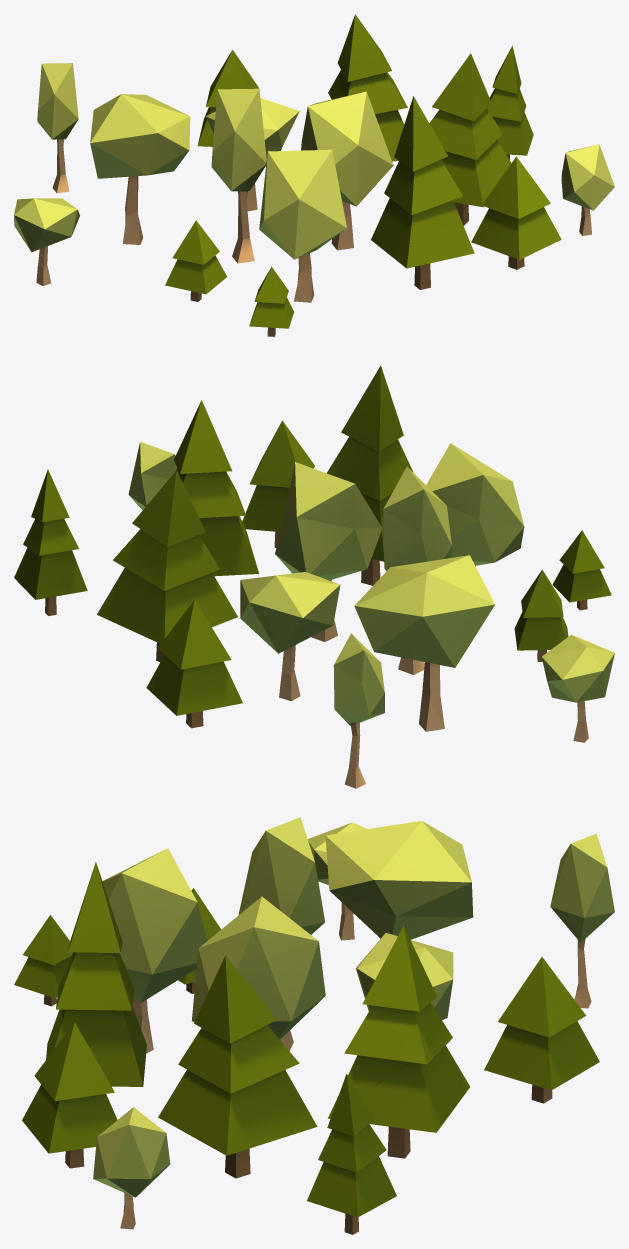
Rendered from forest.obj.
3 renders of one model, top to bottom at view 1: azimuth 30°, elevation 25°; view 2: azimuth 150°, elevation 25°; view 3: azimuth 270°, elevation 25°, orthographic. The views are drawn at different scales.
Parts seen in each view (by area): view 1: forest.001; view 2: forest.001; view 3: forest.001.
Part boxes in pixels (<box>): forest.001: <box>14,14,614,336</box>; forest.001: <box>14,365,614,788</box>; forest.001: <box>14,817,614,1234</box>.
Bounding box in the file's own units: 2.78 × 0.9865 × 2.15.
